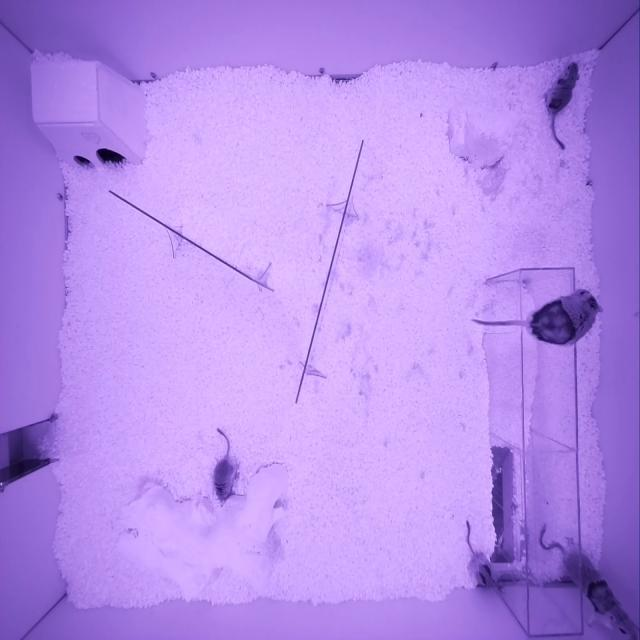adult_back: (524, 289, 604, 347)
adult_front: (561, 536, 639, 640)
pup_fluffy: (213, 458, 237, 508)
pup_spotted: (546, 62, 581, 115)
pup_v_stripe: (467, 550, 494, 588)
